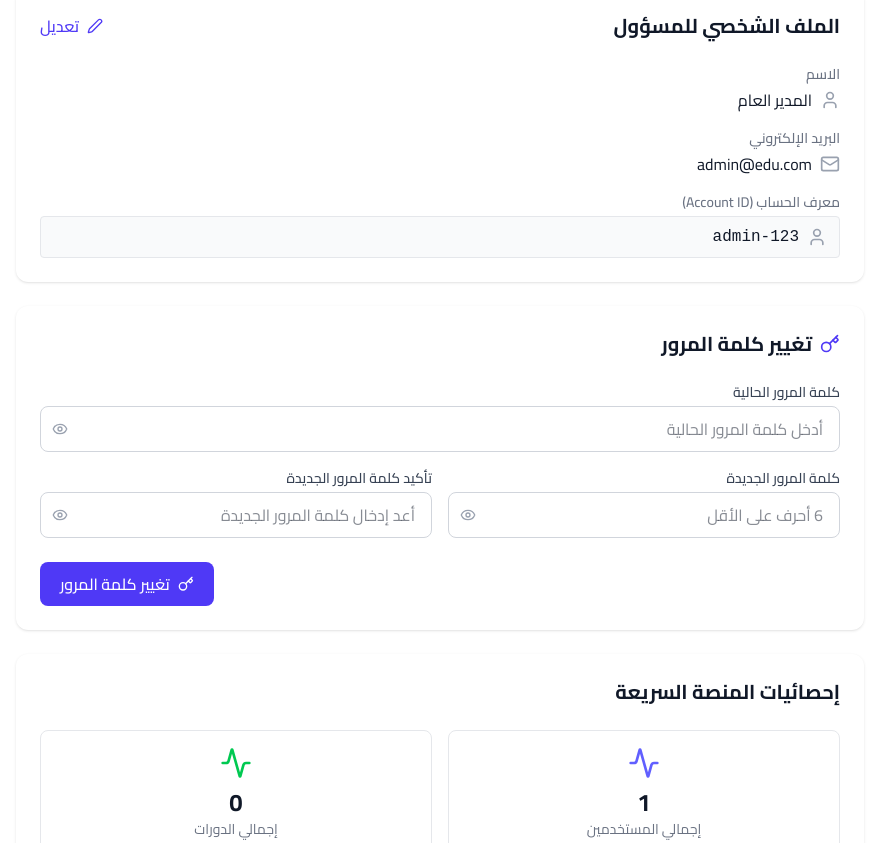
it: AdminProfilePage - Password Change Component › shows error when new password is too short (< 6 characters)
In the password field with placeholder "أدخل كلمة المرور الحالية": (440, 429) [40, 406, 840, 452], type "CurrentPass123"
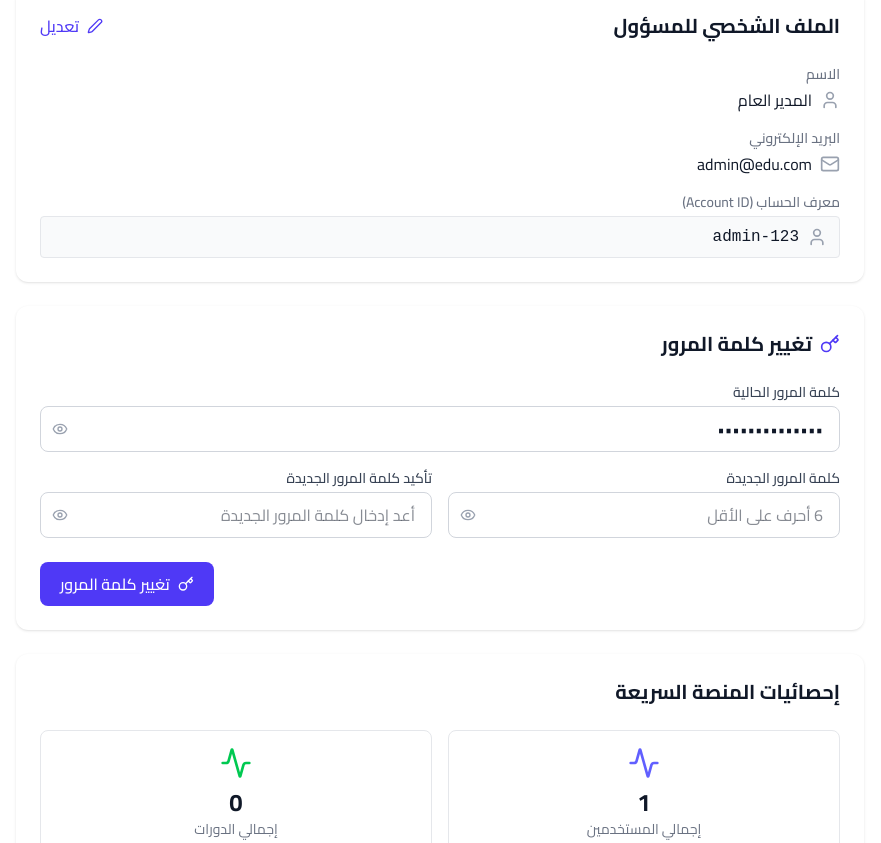
In the password field with placeholder "6 أحرف على الأقل": (644, 515) [448, 492, 840, 538], type "123"
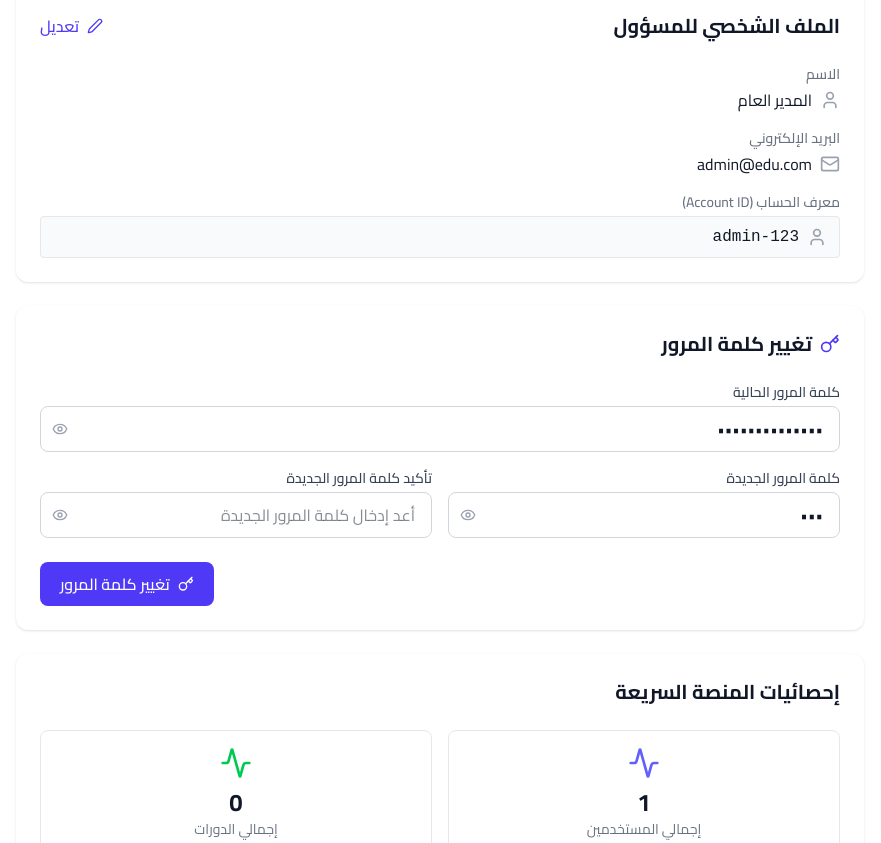
In the password field with placeholder "أعد إدخال كلمة المرور الجديدة": (236, 515) [40, 492, 432, 538], type "123"
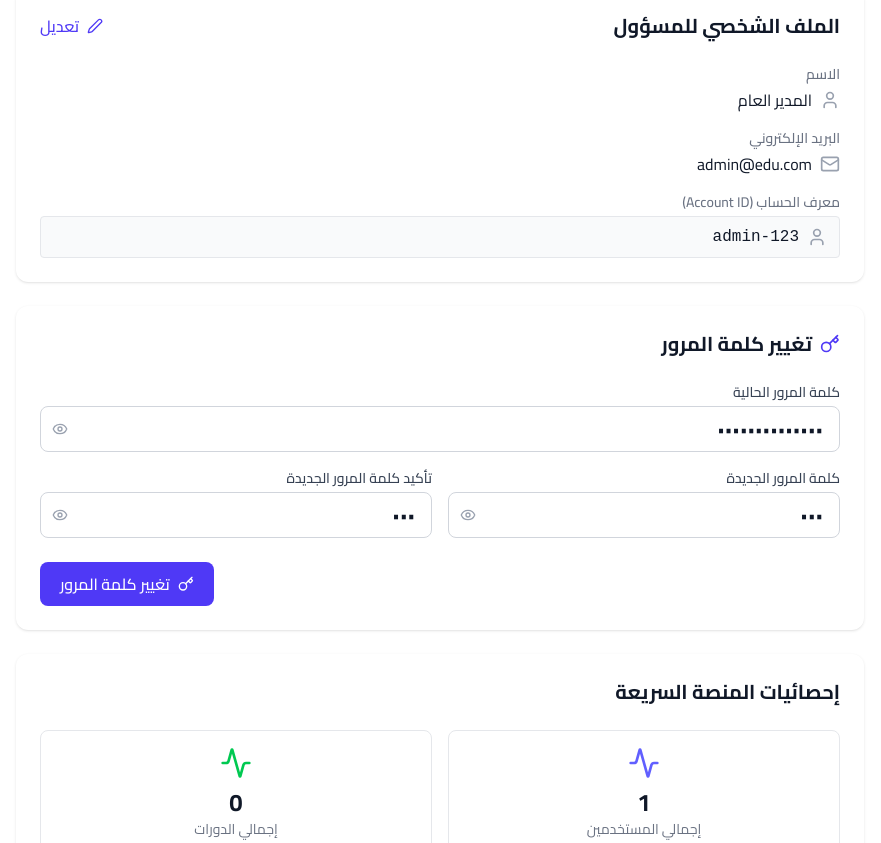
Click the button "تغيير كلمة المرور": (127, 584) [40, 562, 214, 606]
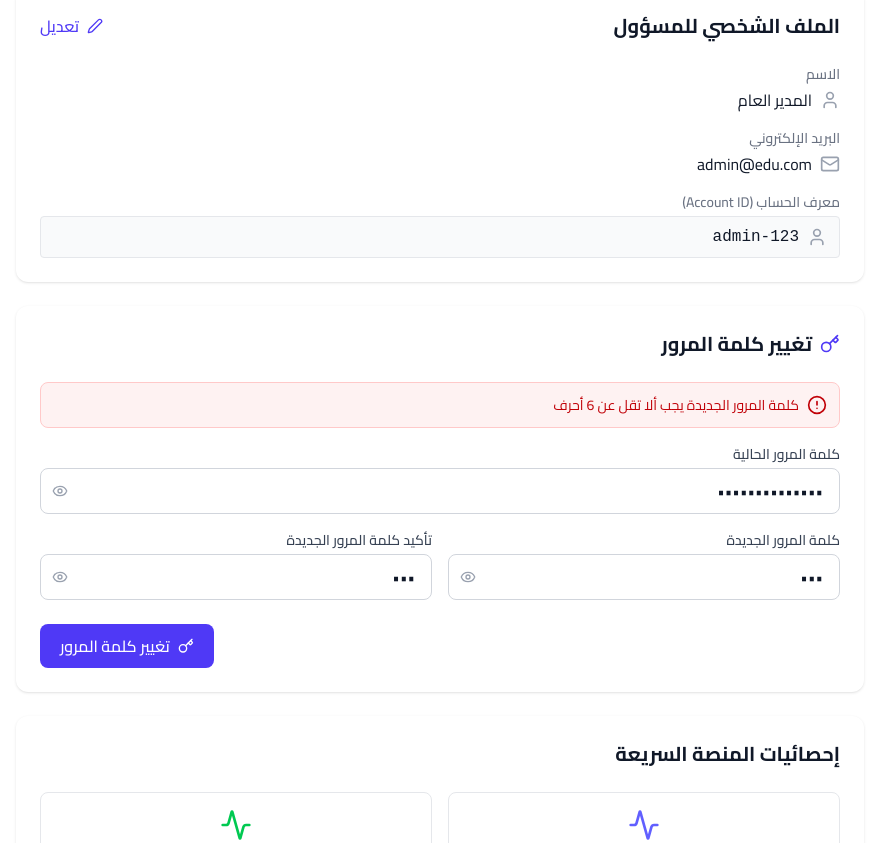
Now the text "كلمة المرور الجديدة يجب ألا تقل عن 6 أحرف" is shown, box [553, 395, 799, 415]
